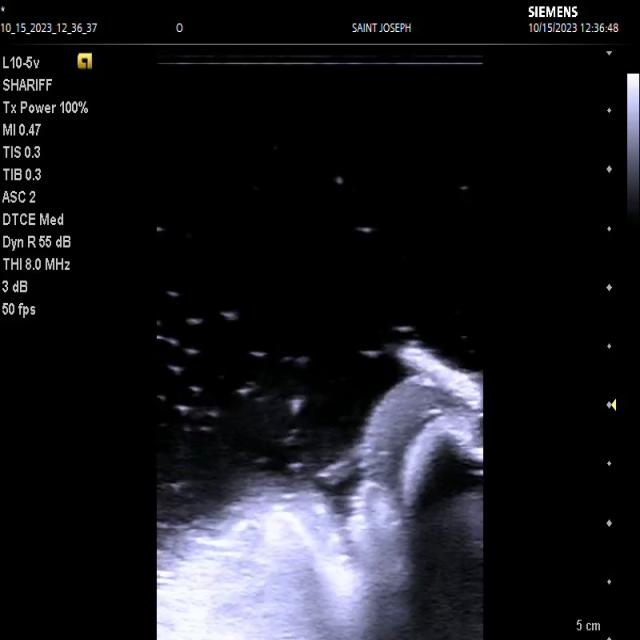tissue: (157, 347, 483, 640)
